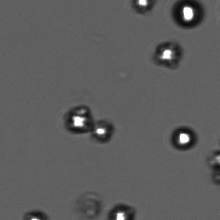Dead Cell: (79, 197, 101, 216)
Living Cell: (110, 202, 133, 219), (156, 45, 176, 63), (68, 111, 88, 129), (89, 122, 109, 140), (174, 128, 194, 146), (179, 6, 199, 22), (131, 1, 153, 10)
